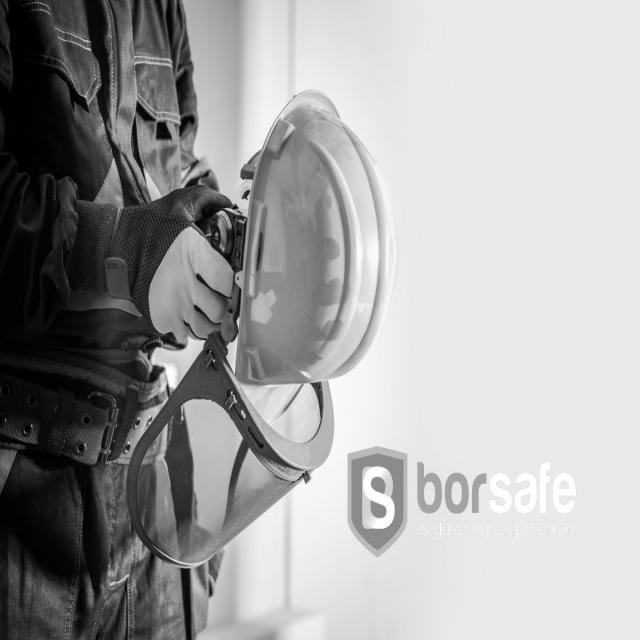safety_helmet: (229, 91, 395, 393)
